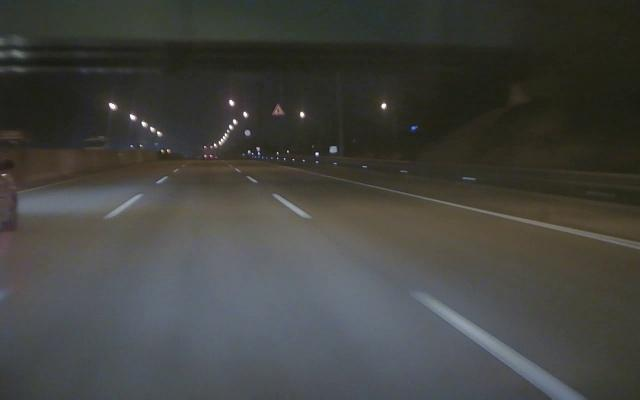lane: (270, 194, 588, 399), (373, 183, 640, 250), (94, 189, 147, 219)
